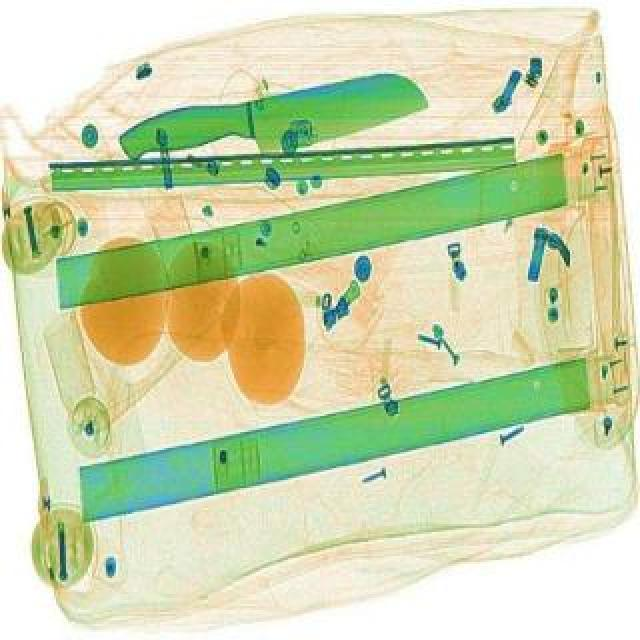knife: (112, 72, 432, 178)
